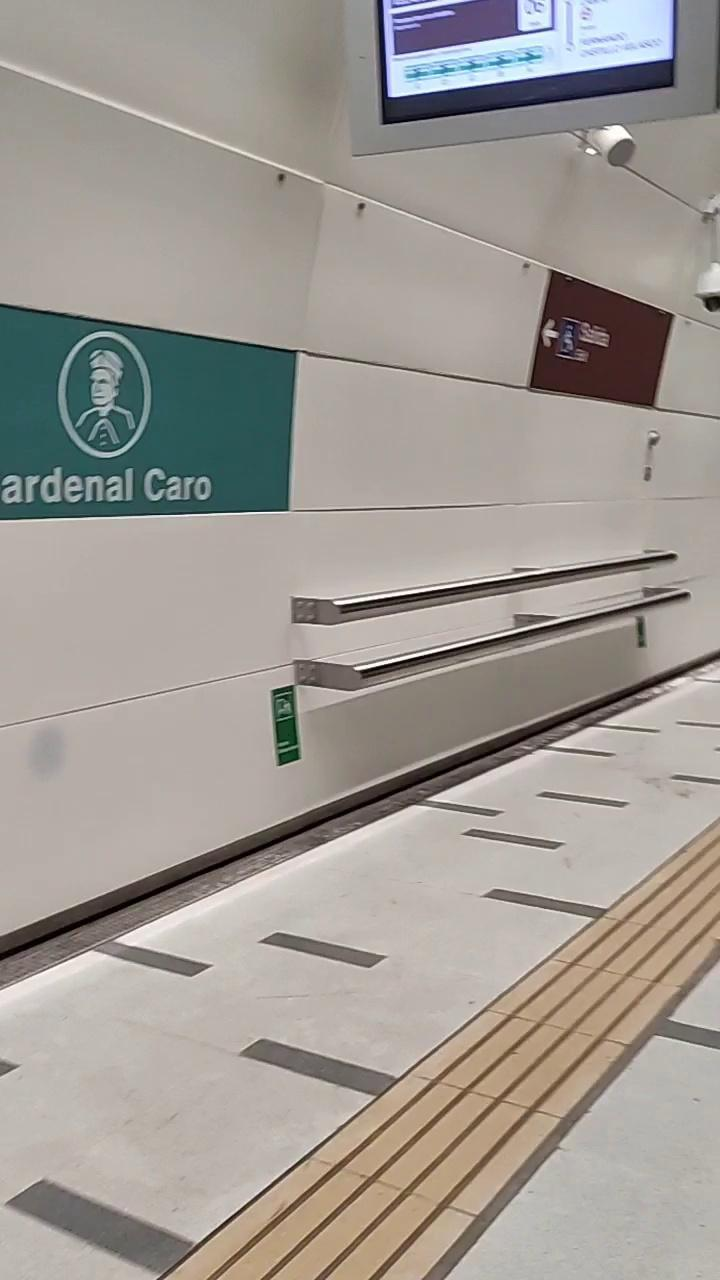handicapped symbol: (560, 323, 576, 354)
left arrow: (541, 318, 559, 348)
